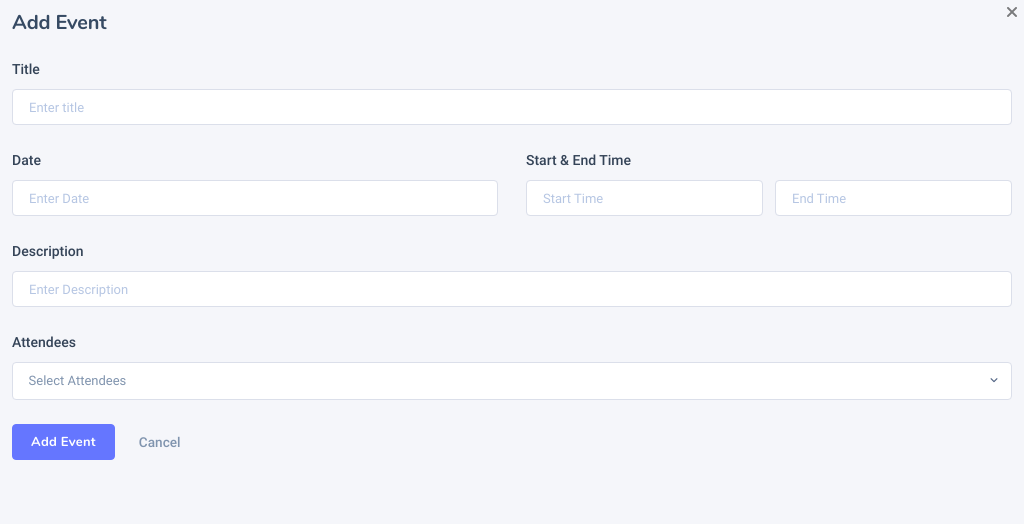
Test: AddEvent › it test the error message date
This screenshot has width=1024, height=524.
Type "Interview SLot" into the field with test id "Title" at (512, 107), box [12, 89, 1012, 125]
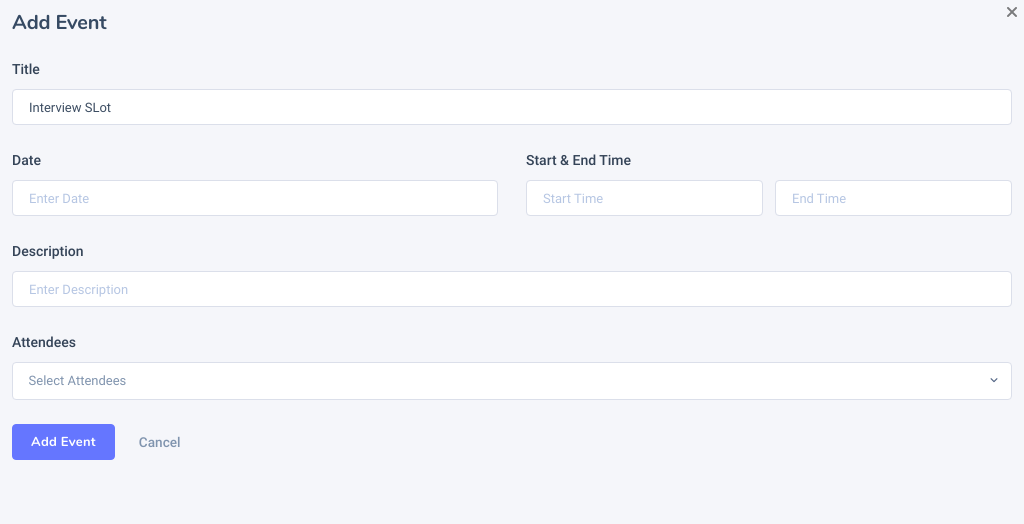
Type "Interview Slot desc" into the field with test id "Description" at (512, 289), box [12, 271, 1012, 307]
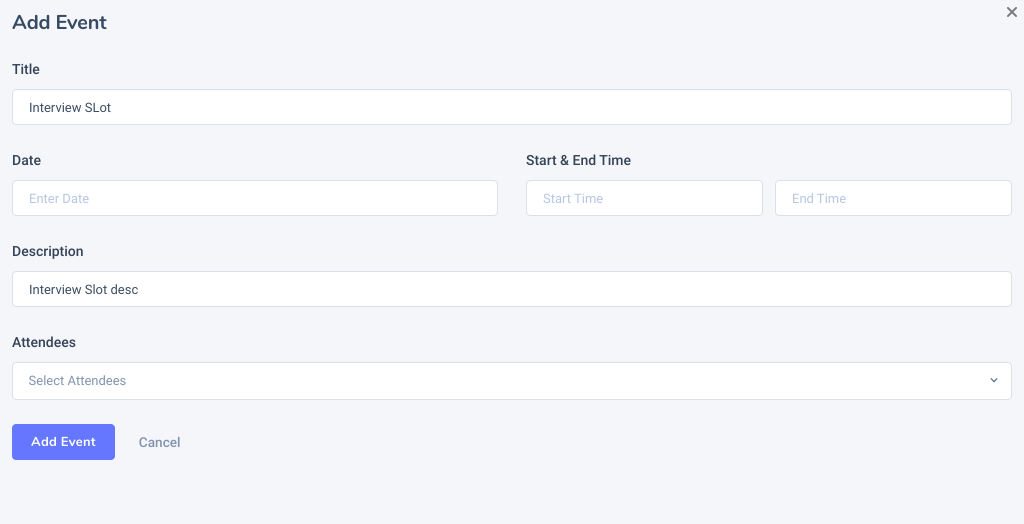
Click the button with test id "submitButton" at (63, 442), box [12, 424, 115, 460]
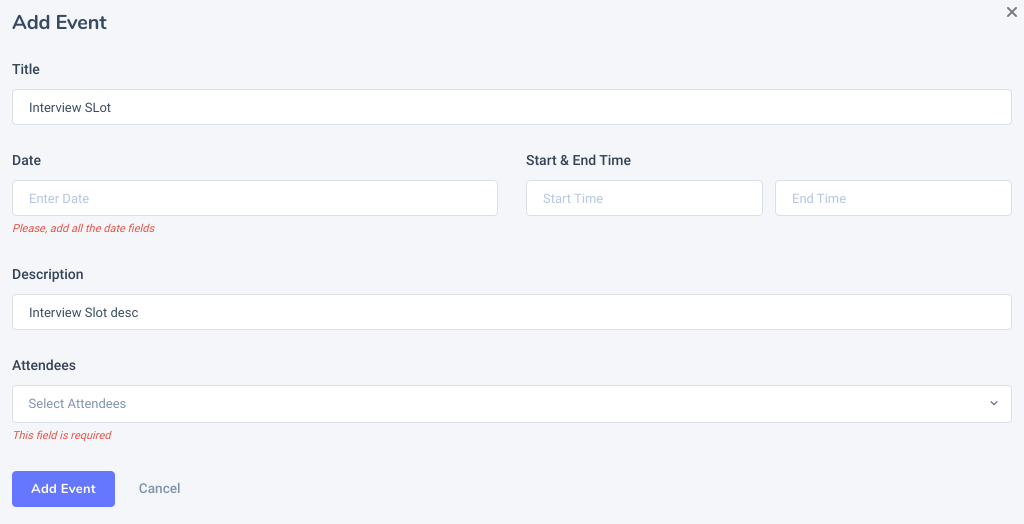
Expected: the text "This field is required" is shown once, [12, 430, 110, 442]
